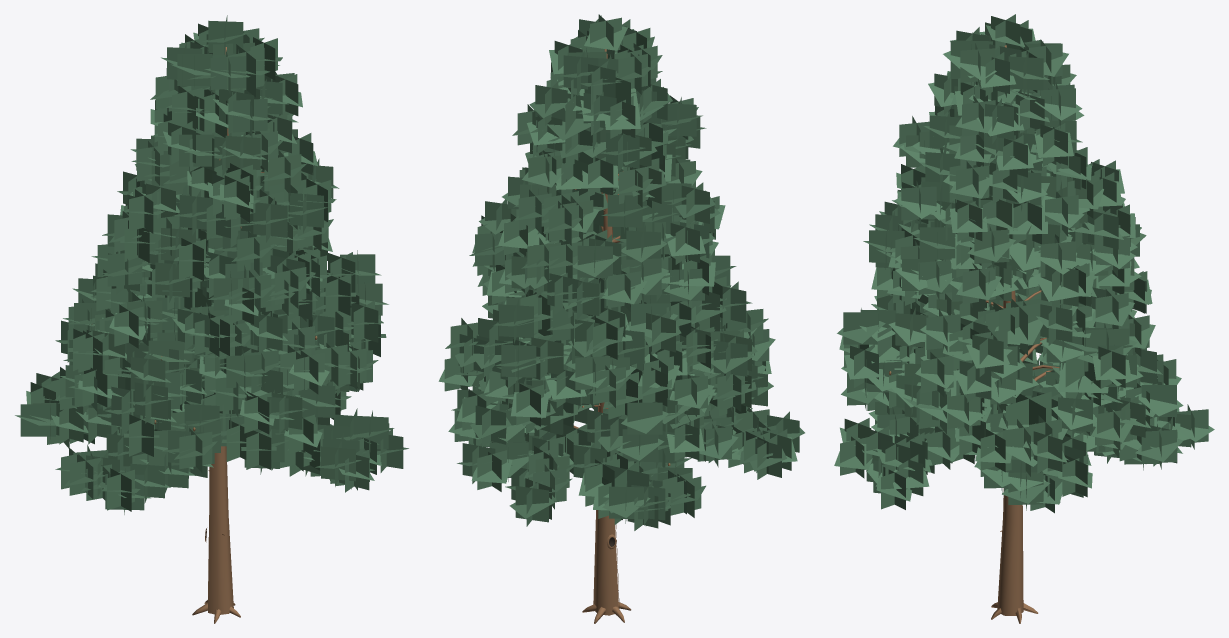
Rendered from pin_2_f3_jeu.glb.
The picture shows the model from 3 angles, left to right: view 1: azimuth 30°, elevation 25°; view 2: azimuth 150°, elevation 25°; view 3: azimuth 270°, elevation 25°; orthographic projection.
Visible parts, largest first — view 1: Pin_T2_f3_Leger; view 2: Pin_T2_f3_Leger; view 3: Pin_T2_f3_Leger.
Boxes of the visible parts, x1=… form: Pin_T2_f3_Leger: x1=15, y1=15, x2=408, y2=623; Pin_T2_f3_Leger: x1=438, y1=14, x2=804, y2=623; Pin_T2_f3_Leger: x1=834, y1=14, x2=1214, y2=623.
Bounding box in the file's own units: 6.53 × 11.56 × 6.69.
